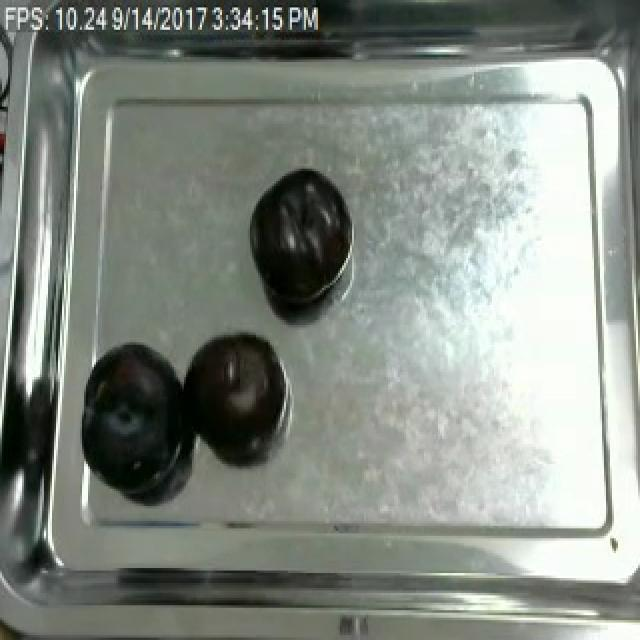Fruit: (244, 166, 352, 313), (174, 328, 280, 457)
